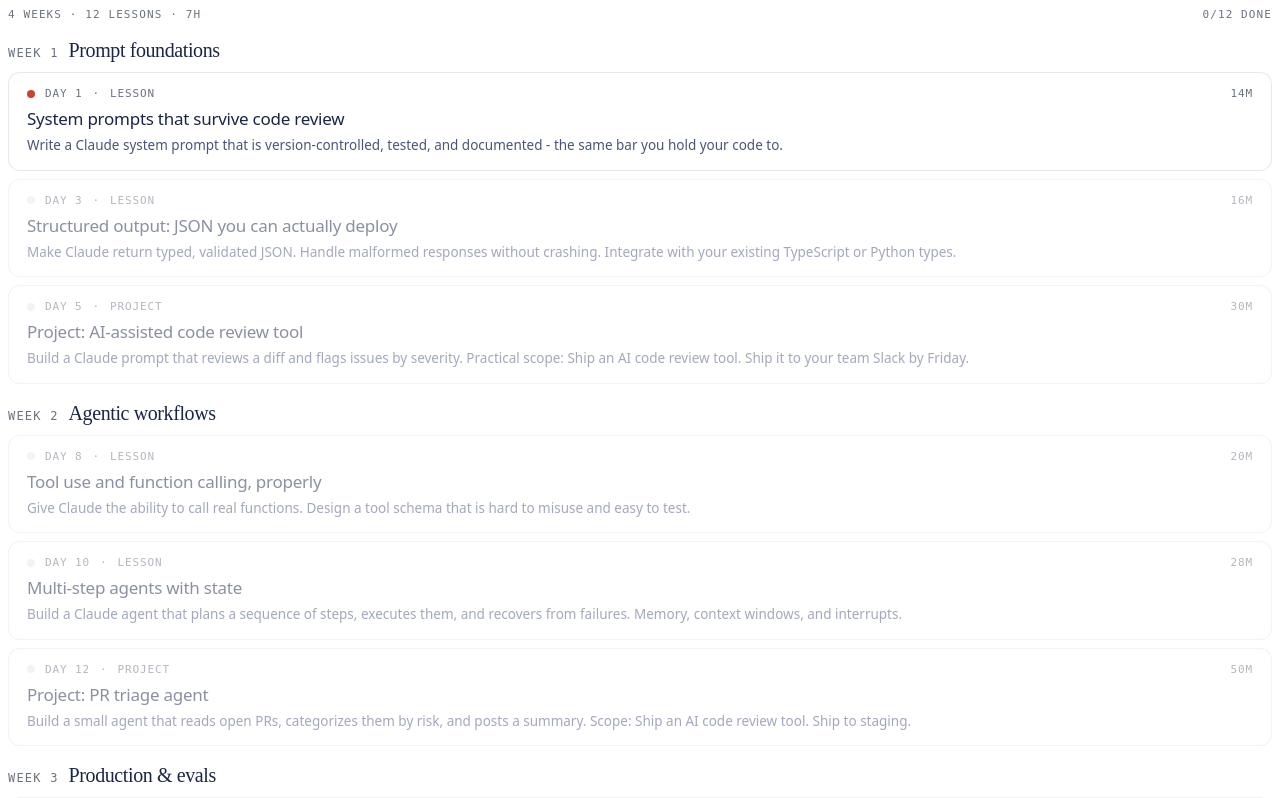
Test case: ProgressTracker › marks a lesson completed when clicked
# First button should be 'in-progress' (clickable)
Click the 1st button: point(60, 94) [8, 72, 1272, 170]
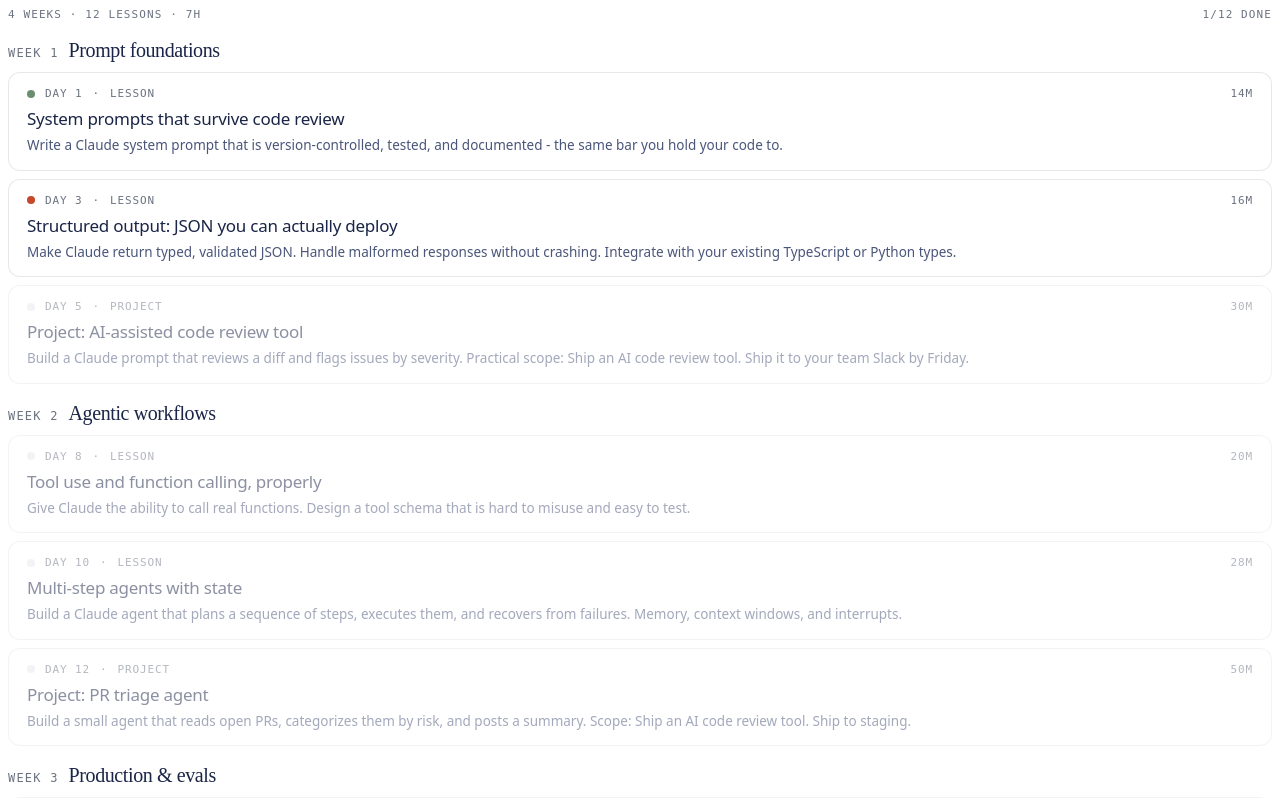
Expected: the text "1/12 done" is shown, [1202, 8, 1272, 21]
